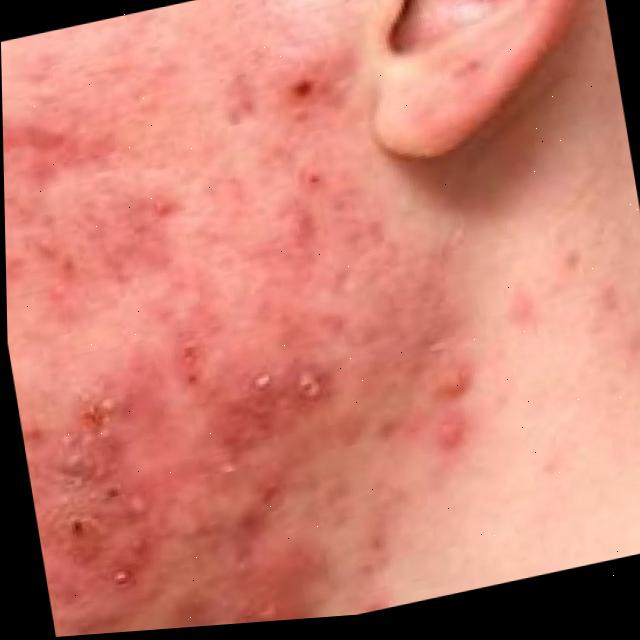Acne: (12, 60, 457, 639)
